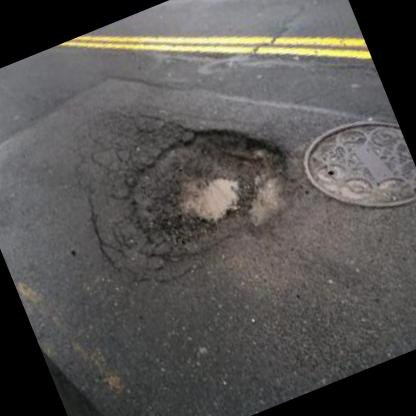pothole: (106, 98, 305, 272)
